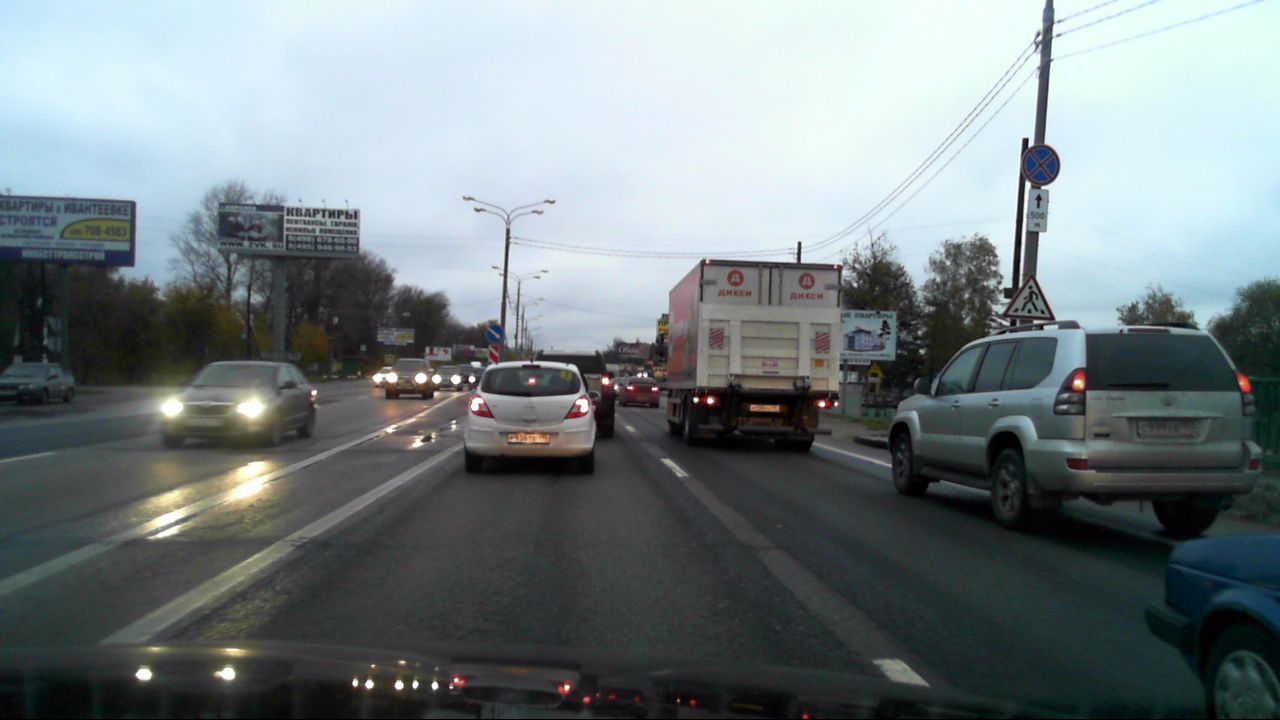No Parking: (1020, 144, 1061, 185)
